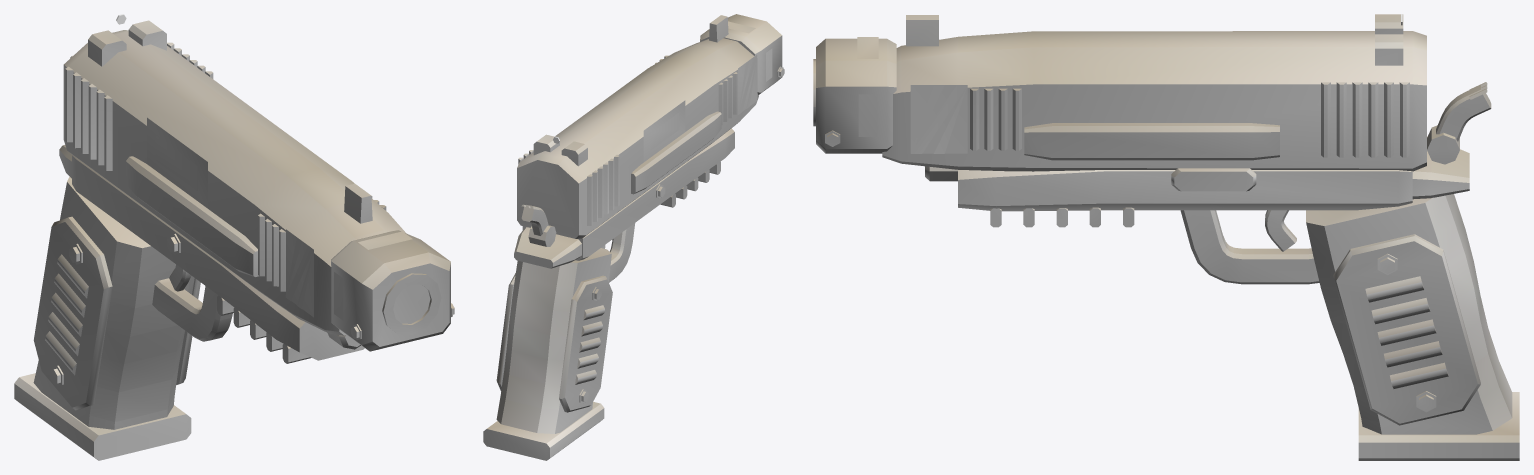
The model's file is hand-cannon-m.glb.
3 renders of one model, left to right at view 1: azimuth 30°, elevation 25°; view 2: azimuth 150°, elevation 25°; view 3: azimuth 270°, elevation 25°, orthographic. The views are drawn at different scales.
Parts seen in each view (by area): view 1: Slide, Body, Barrel; view 2: Body, Slide, Barrel, Hammer; view 3: Slide, Body, Barrel, Hammer.
Part boxes in pixels (bbox=[...]): Slide: bbox=[63, 14, 406, 335]; Body: bbox=[14, 145, 364, 460]; Barrel: bbox=[331, 230, 454, 351]; Body: bbox=[483, 128, 734, 460]; Slide: bbox=[517, 15, 758, 238]; Barrel: bbox=[700, 14, 784, 94]; Hammer: bbox=[521, 204, 556, 246]; Slide: bbox=[882, 14, 1426, 171]; Body: bbox=[925, 136, 1519, 460]; Barrel: bbox=[813, 37, 896, 153]; Hammer: bbox=[1427, 82, 1491, 164].
Size of the model in its own units: 0.3115 by 1.06 by 1.6.
